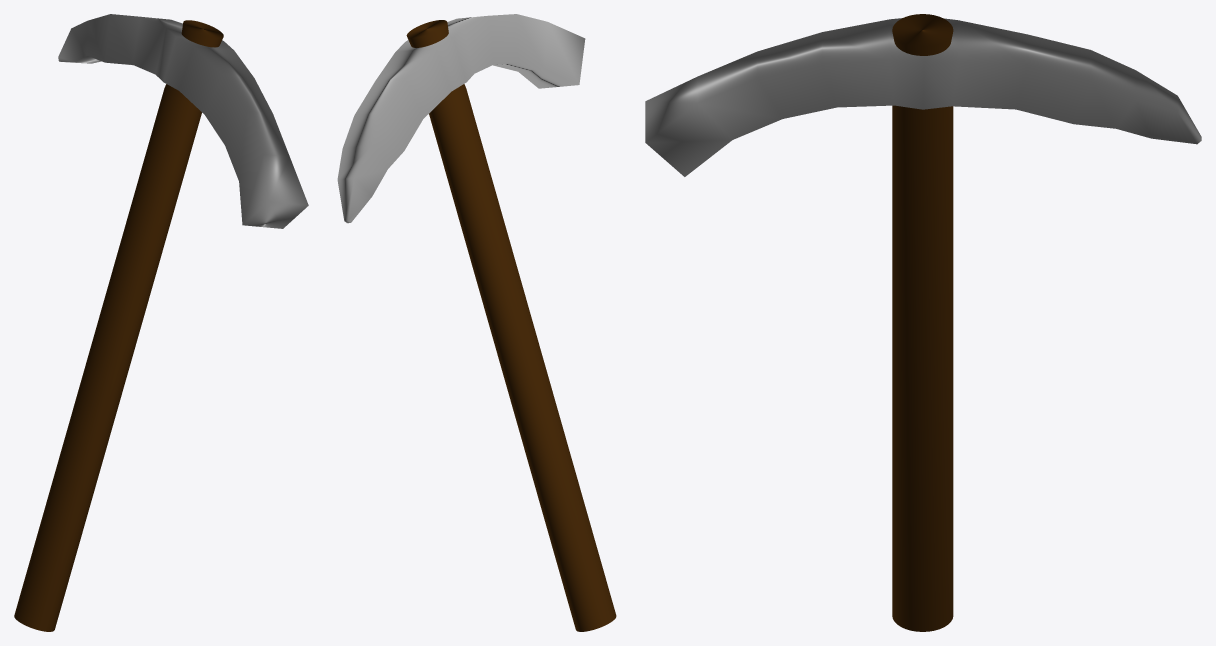
Rendered from pickaxe.glb.
3 views of the same model, side by side, from view 1: azimuth 30°, elevation 25°; view 2: azimuth 150°, elevation 25°; view 3: azimuth 270°, elevation 25° (orthographic). The views are drawn at different scales.
Visible parts, largest first — view 1: Cylinder; view 2: Cylinder; view 3: Cylinder.
Part boxes in pixels (<box>): Cylinder: <box>14,14,308,631</box>; Cylinder: <box>337,14,616,631</box>; Cylinder: <box>645,14,1201,631</box>.
Bounding box in the file's own units: 0.6196 × 1.62 × 1.16.
